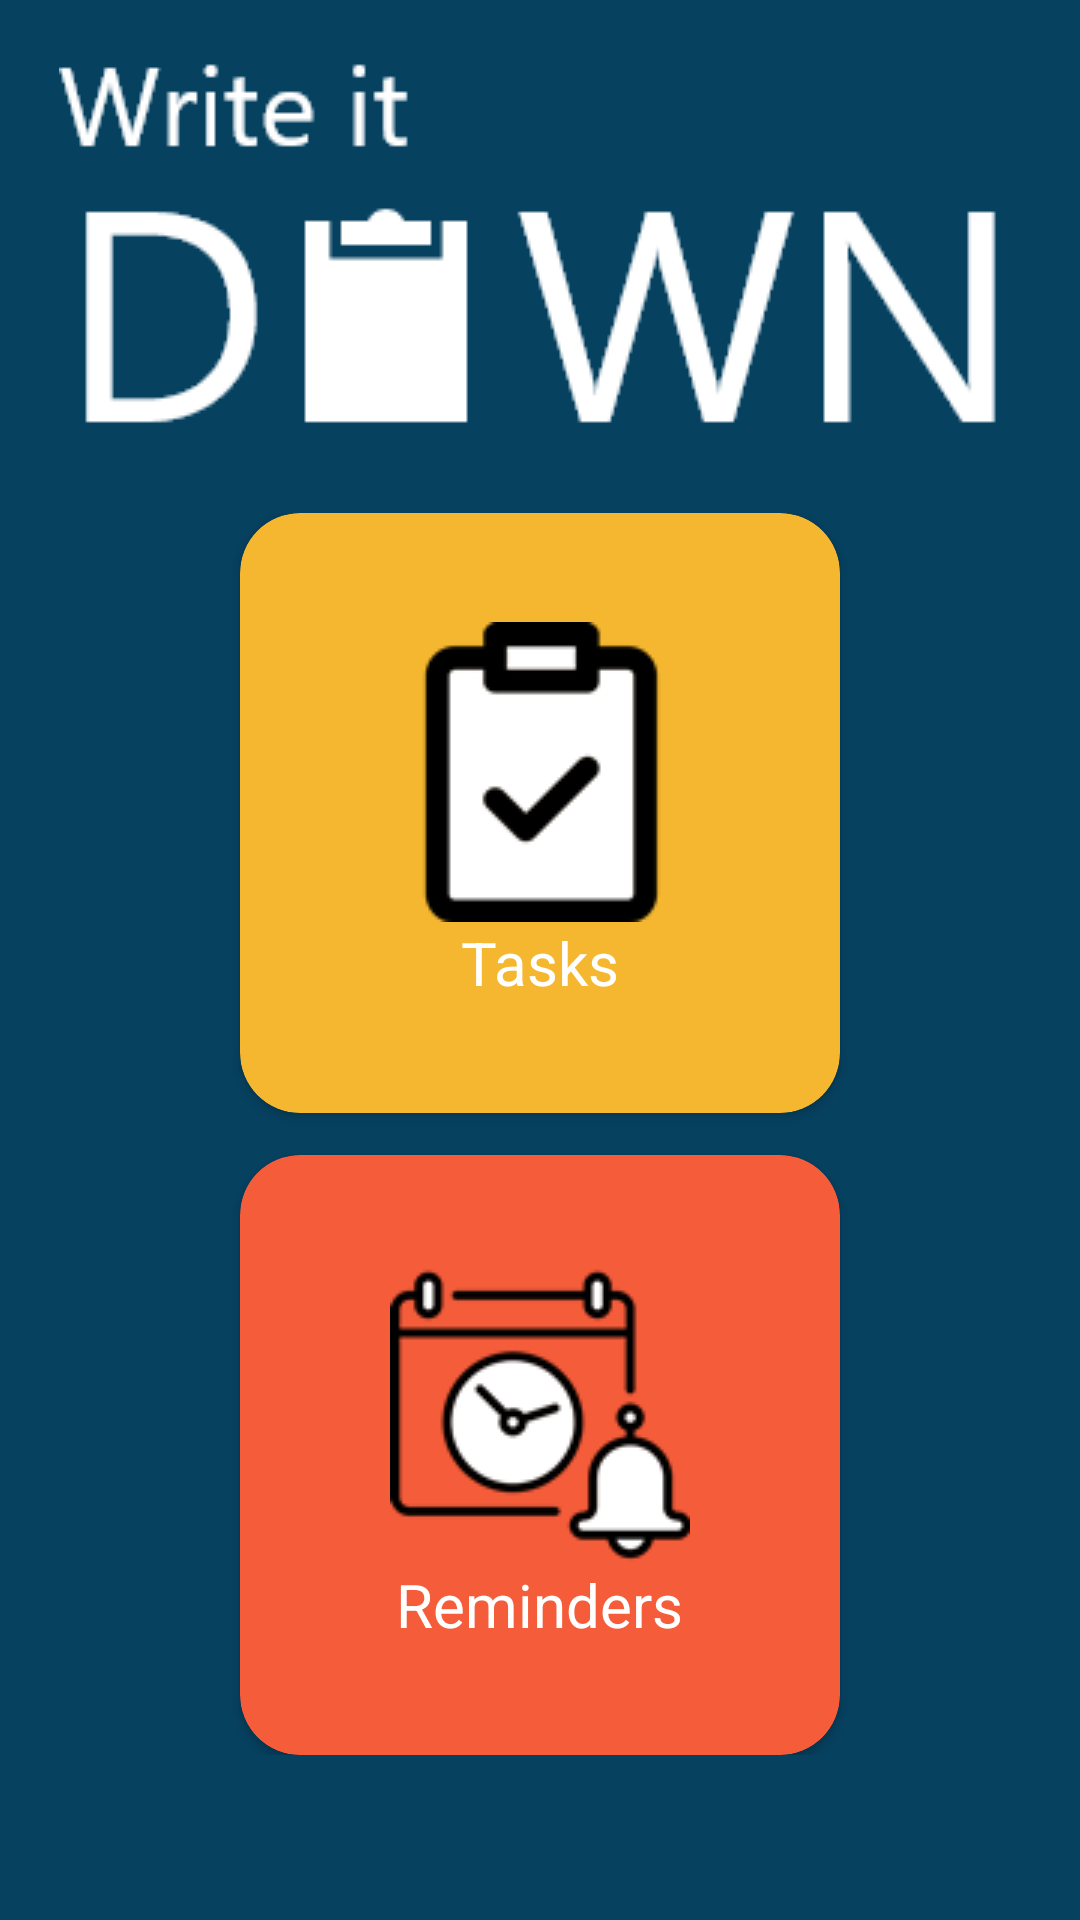

Named icons in this screenshot (1080 x 1920) and their centers, (x,y):
calendar: (540,1414)
clipboard: (541,772)
